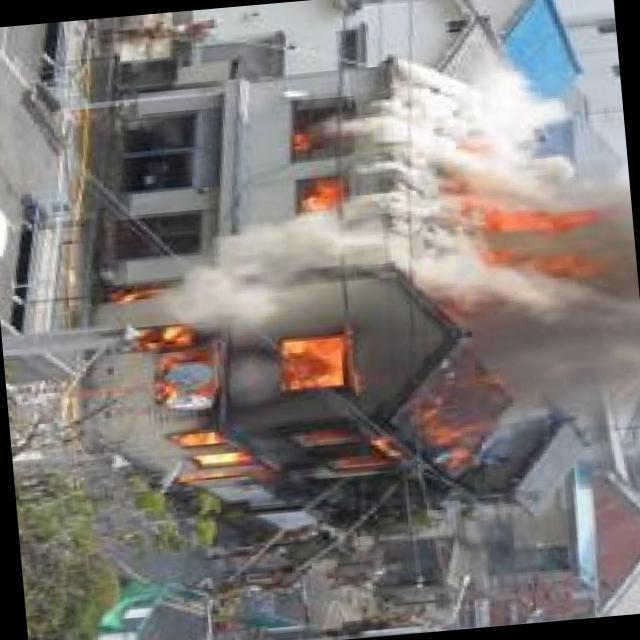Fire: (125, 290, 510, 503), (467, 194, 593, 288), (283, 117, 338, 209)
